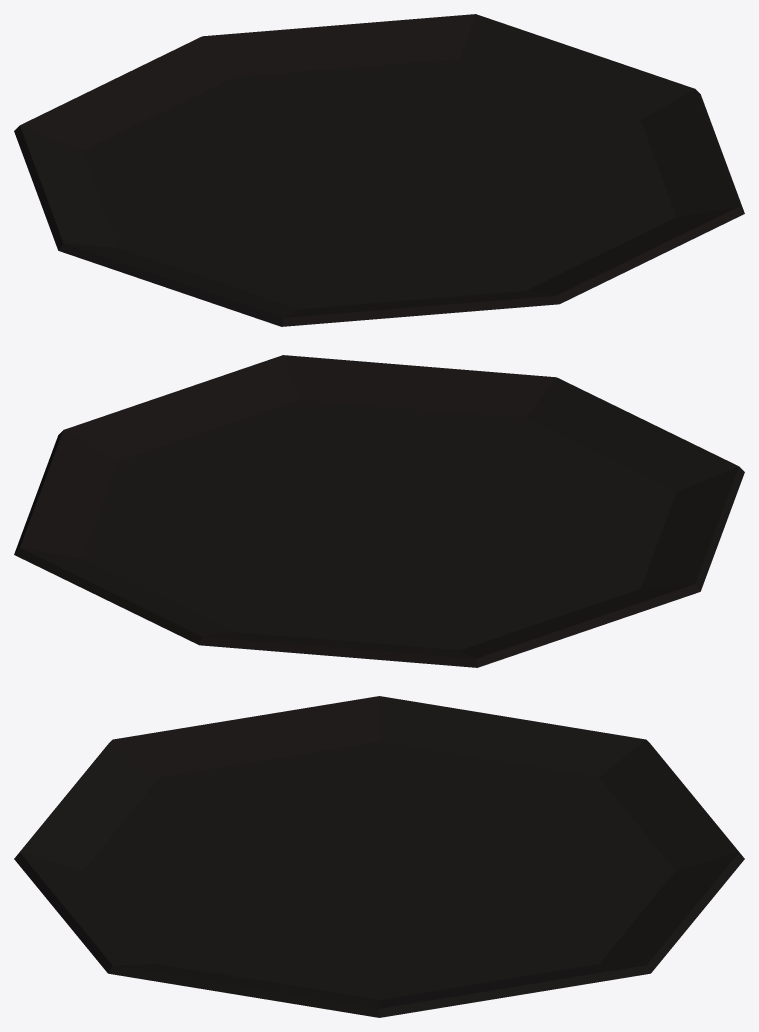
Rendered from plateCeramic.fbx.
3 views of the same model, one above another, from view 1: azimuth 30°, elevation 25°; view 2: azimuth 150°, elevation 25°; view 3: azimuth 270°, elevation 25° (orthographic).
Visible parts, largest first — view 1: plateCeramic; view 2: plateCeramic; view 3: plateCeramic.
Boxes of the visible parts, x1,y1,x2,y2 form: plateCeramic: [14, 14, 744, 326]; plateCeramic: [14, 355, 744, 667]; plateCeramic: [14, 696, 744, 1017].
Size of the model in its own units: 34.85 by 1.49 by 33.86.
Materials: 1 (1 with a texture image).
